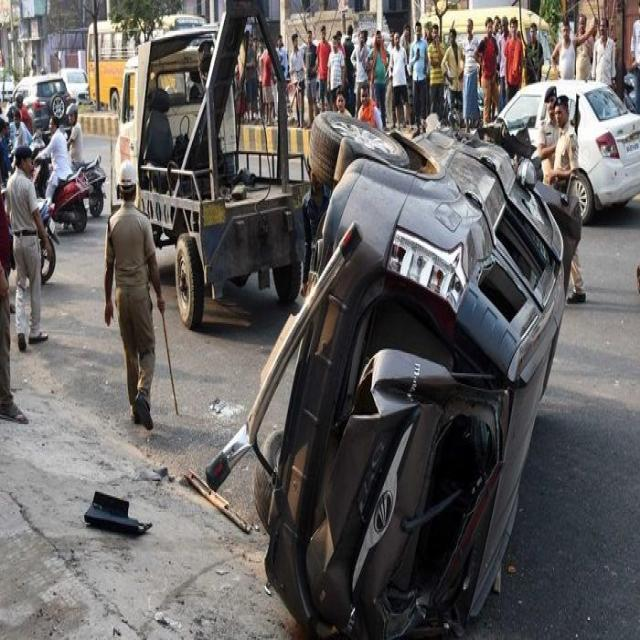accident: (206, 114, 580, 636)
car: (499, 80, 640, 222), (14, 74, 71, 131)
motorcycle: (34, 116, 90, 232), (68, 103, 106, 217)
truck: (115, 0, 308, 327)
